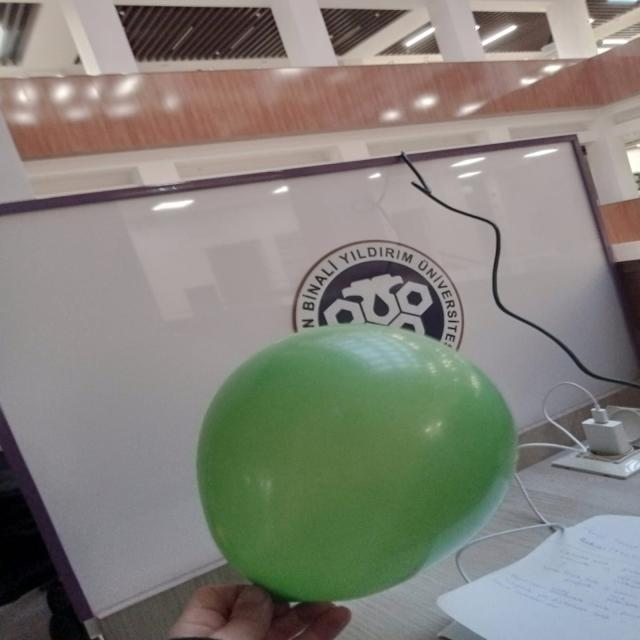balloon: (197, 324, 516, 601)
